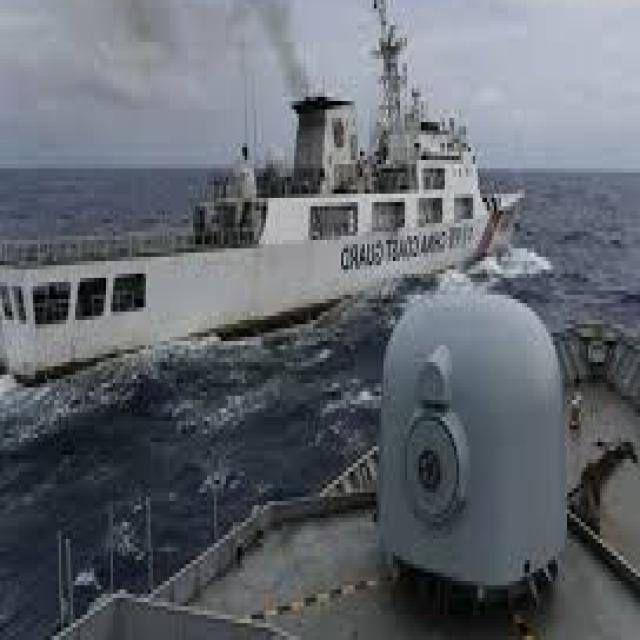navalvessels: (1, 0, 518, 345)
